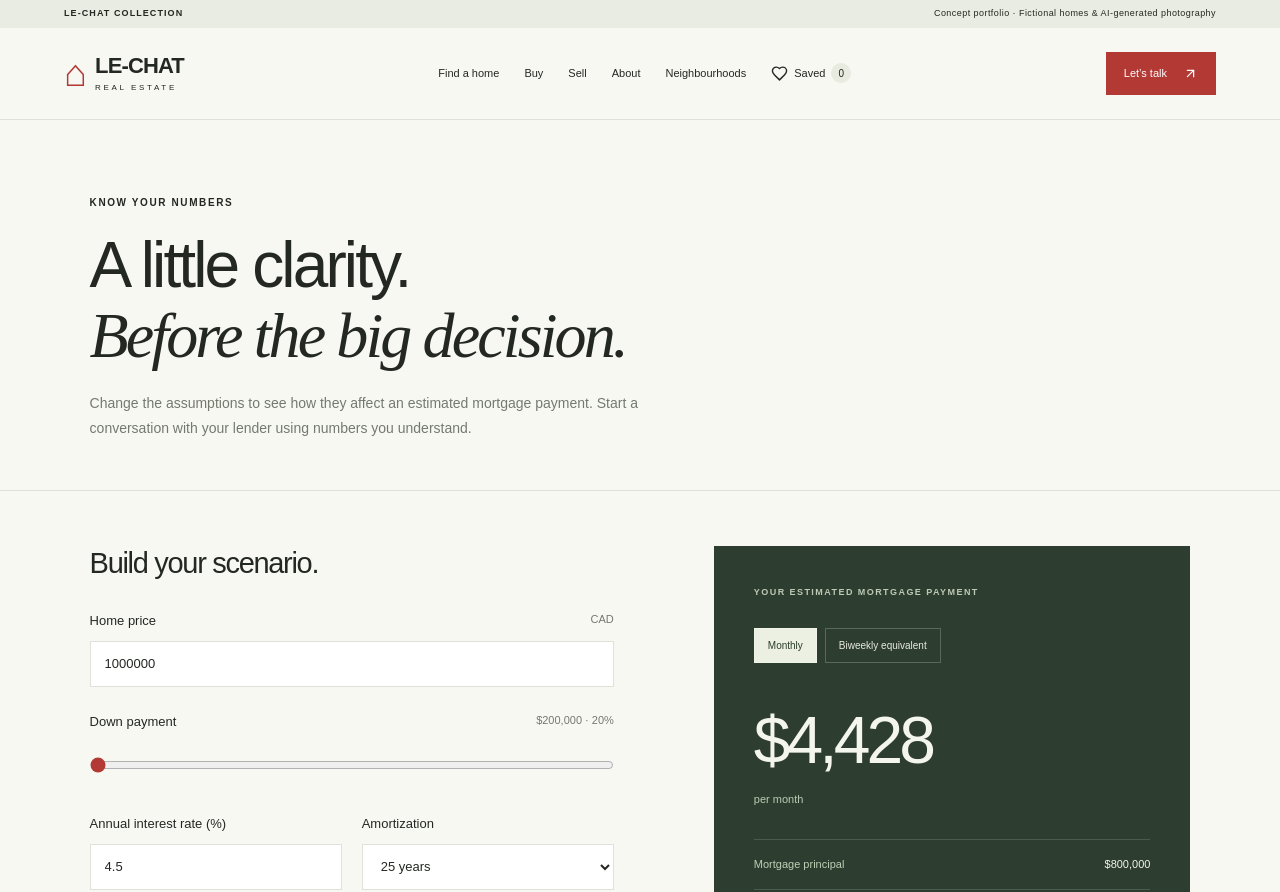
Test: mortgage controls change the estimate
This screenshot has width=1280, height=892.
Replace the text in the number field labelled "Annual interest rate" with "0" at (216, 867), box [90,844,342,890]
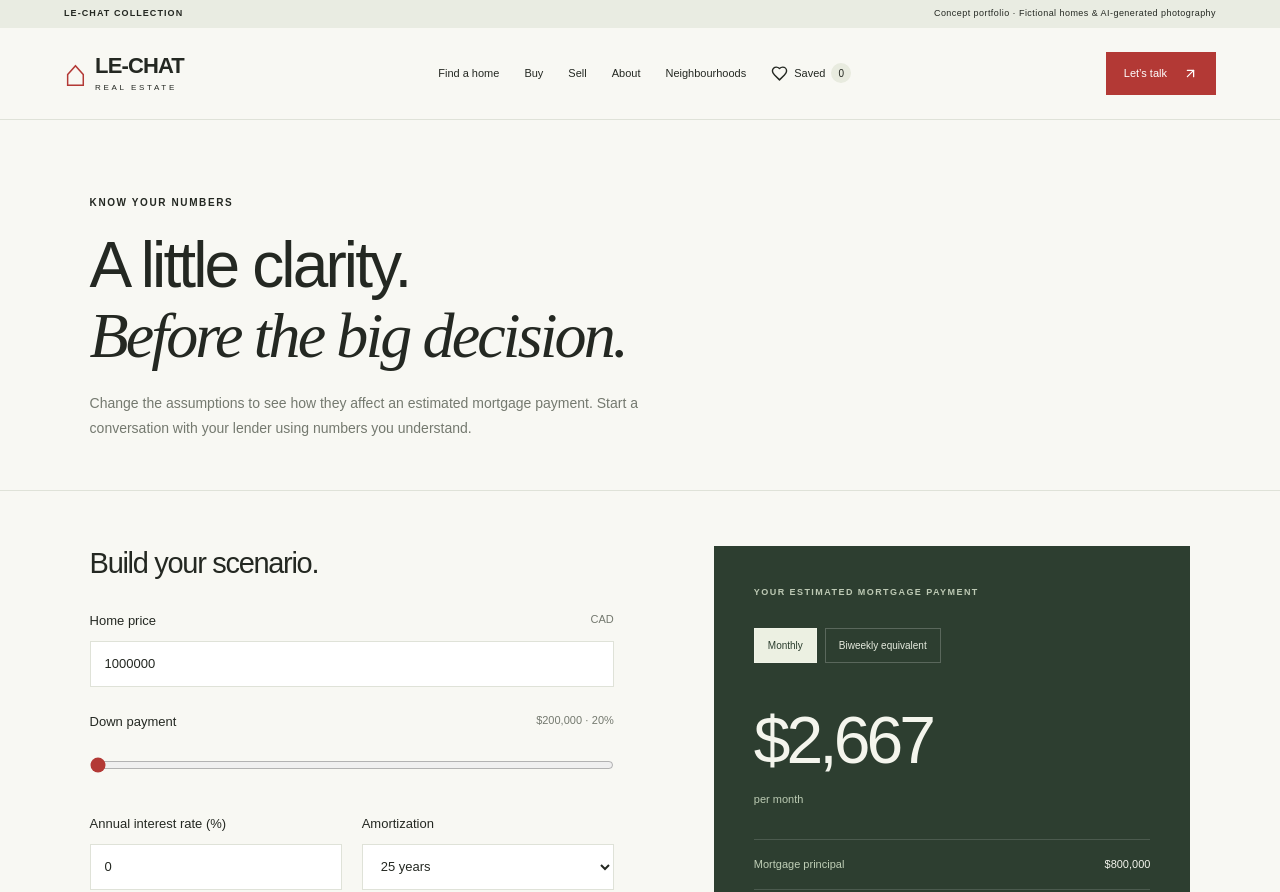
Expected: the text named "Estimated mortgage payment" reads "$2,667", [754,703,932,777]
